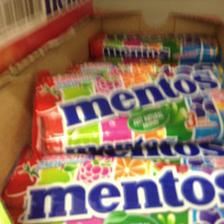Suessigkeit: (5, 149, 219, 221), (39, 66, 222, 150), (89, 28, 223, 60)
